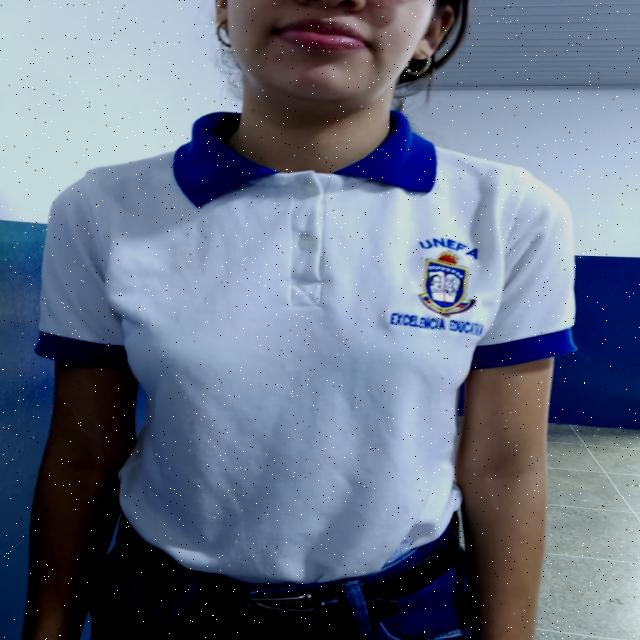uniforme_superior: (30, 109, 580, 585)
